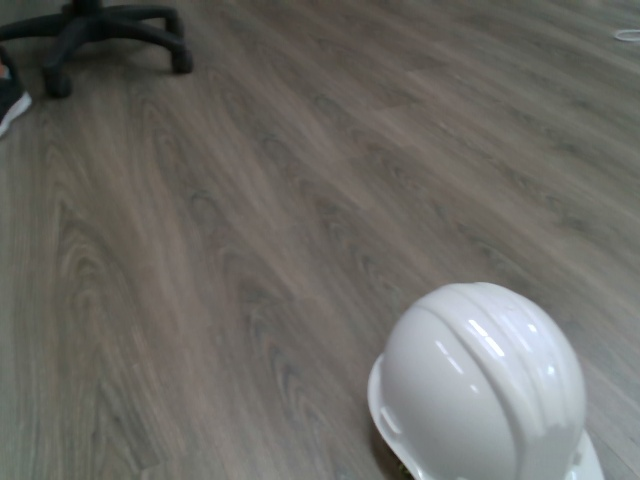helmet: (364, 277, 610, 480)
